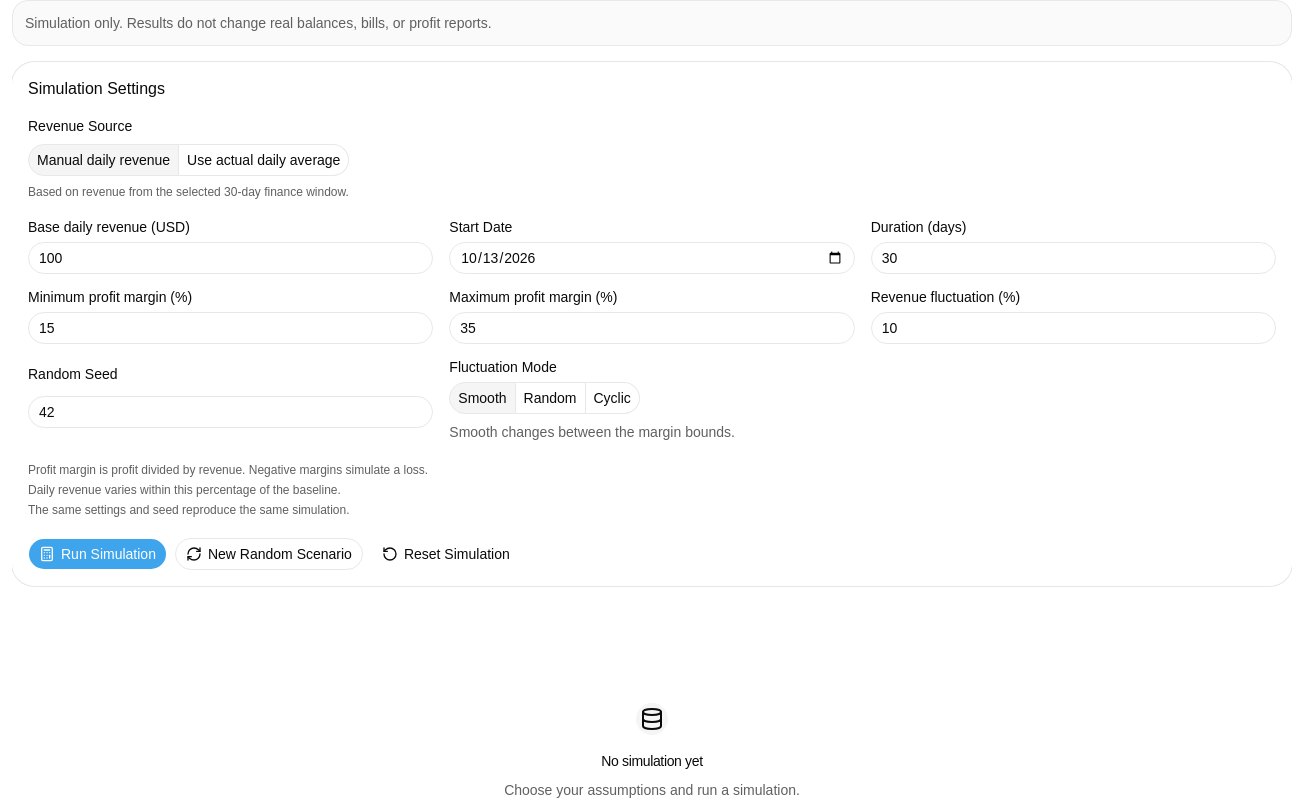
Test: marks changed assumptions, creates a new seeded scenario, paginates daily details, and resets results
Click the button "Run Simulation" at (97, 554), box [28,538,167,570]
(page scrolled)
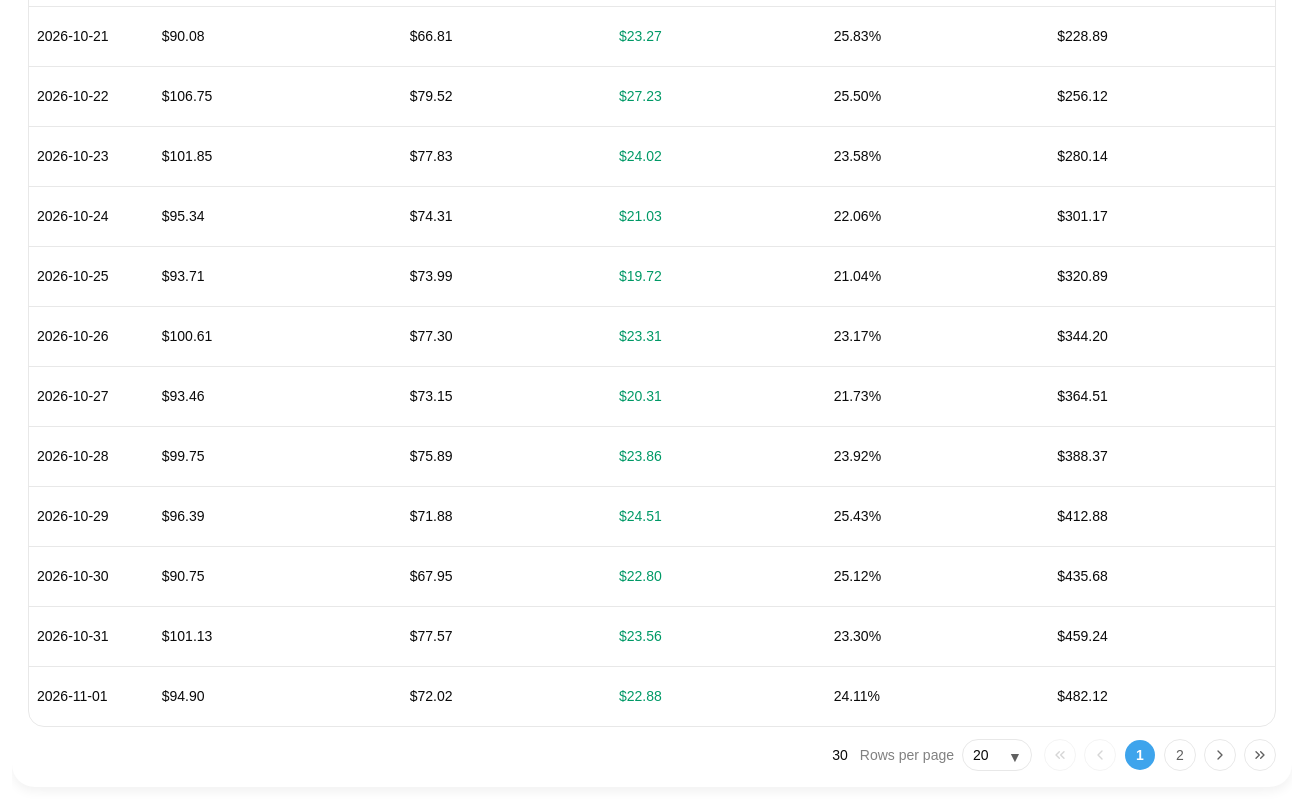
Click the 3rd button named "Go to next page" at (1220, 755), box [1204,739,1236,771]
(page scrolled)
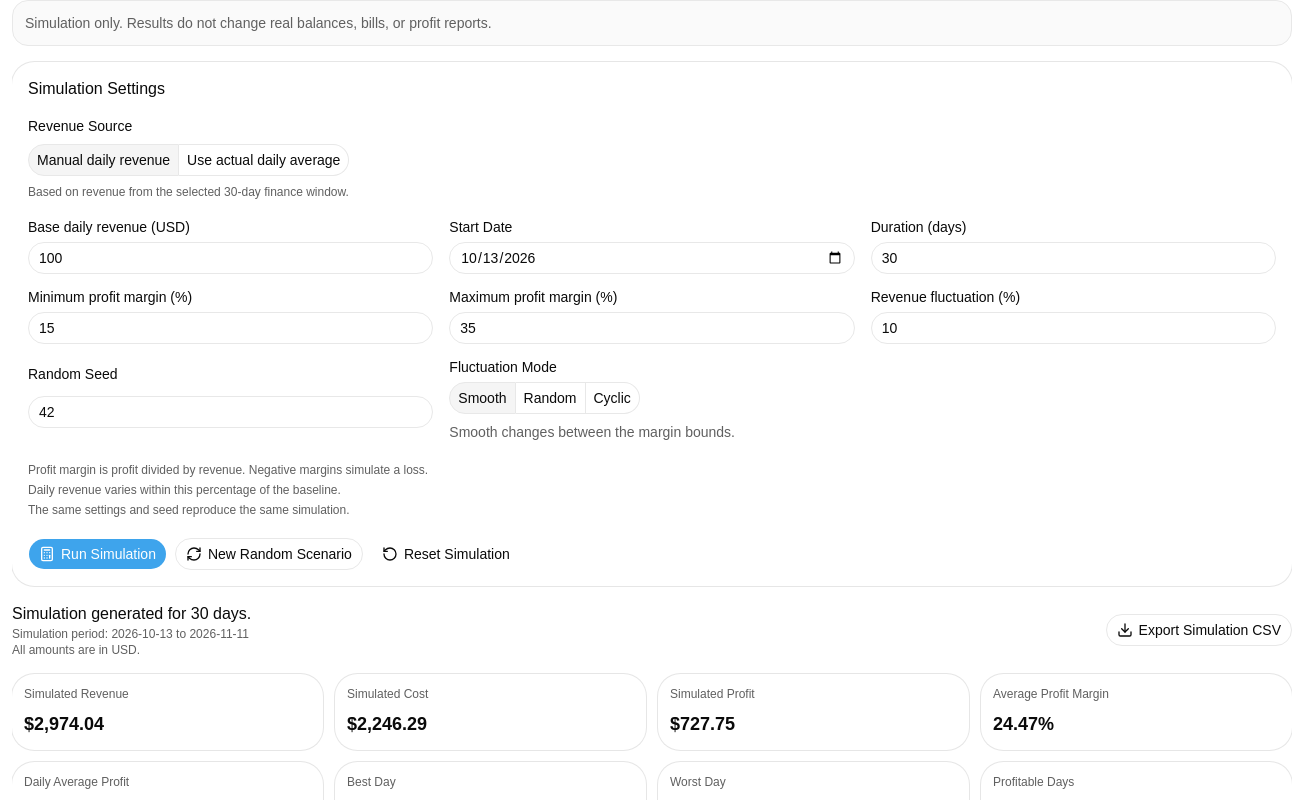
Replace the text in the number field labelled "Duration (days)" with "5" at (1073, 258), box [871,242,1276,274]
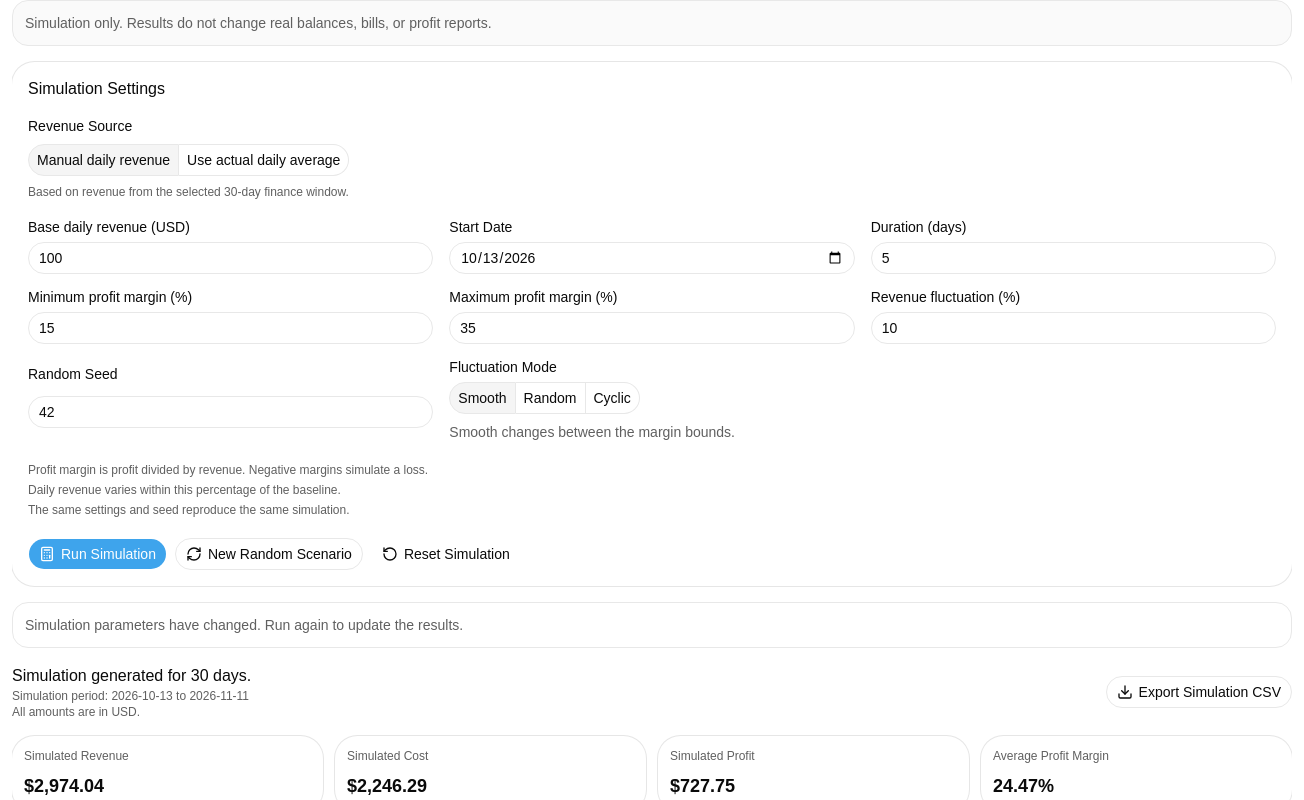
Expected: the text "Simulation parameters have changed. Run again to update the results." is shown, [12,602,1292,648]
Click the button "New Random Scenario" at (269, 554), box [175,538,363,570]
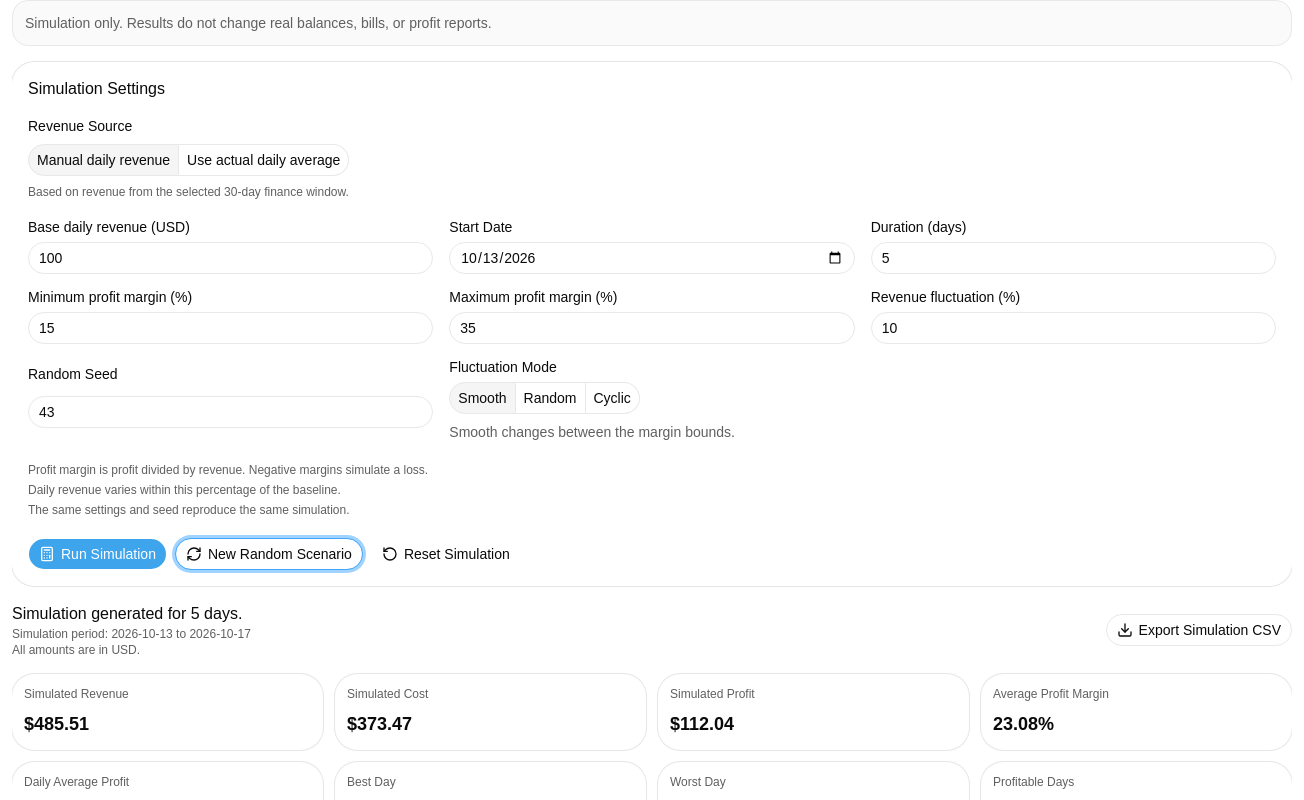
Expected: the text "Simulation generated for 5 days." is shown, [12,602,251,626]
Expected: the number field labelled "Random Seed" holds "43", [28,396,433,428]
Expected: the text "Simulation parameters have changed. Run again to update the results." is gone
Click the button "Reset Simulation" at (446, 554), box [371,538,521,570]
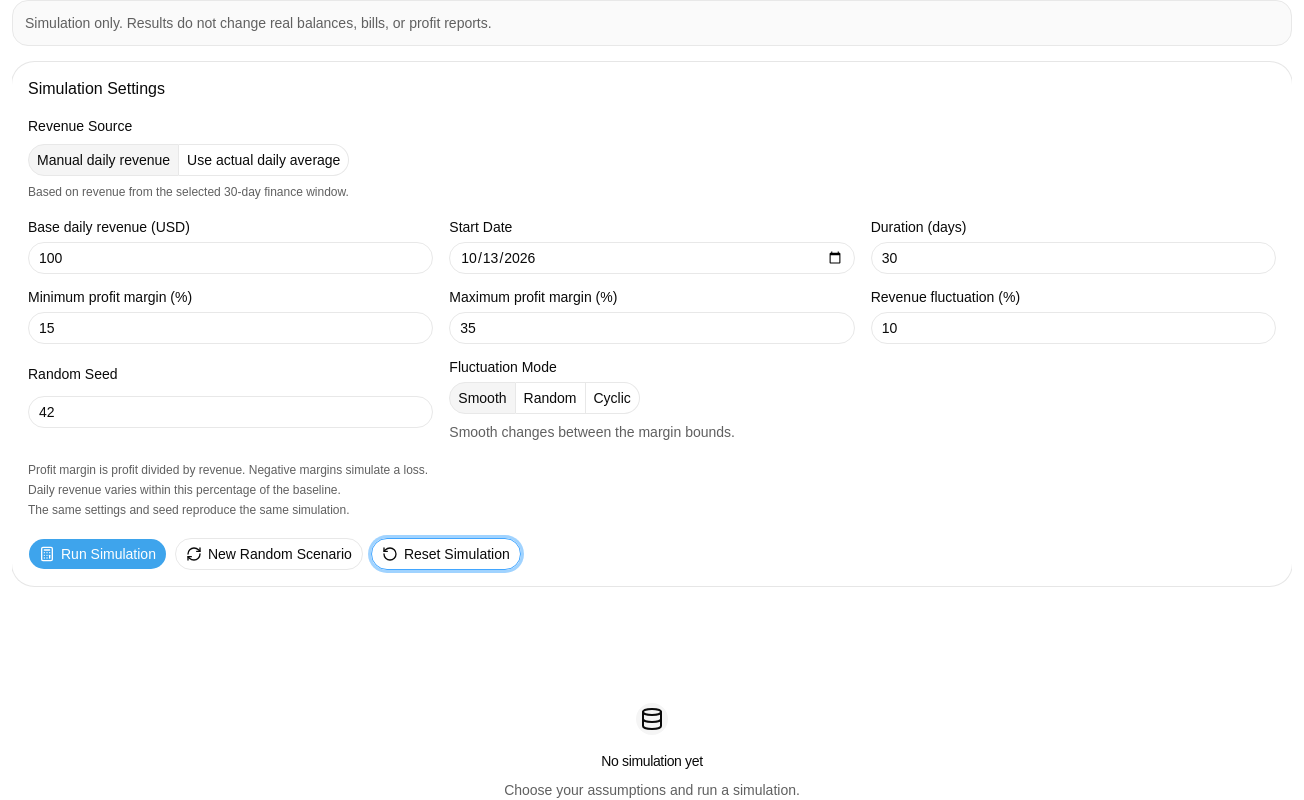
Expected: the text "No simulation yet" is shown, [601,751,703,771]
Expected: the number field labelled "Duration (days)" holds "30", [871,242,1276,274]
Expected: the number field labelled "Random Seed" holds "42", [28,396,433,428]
